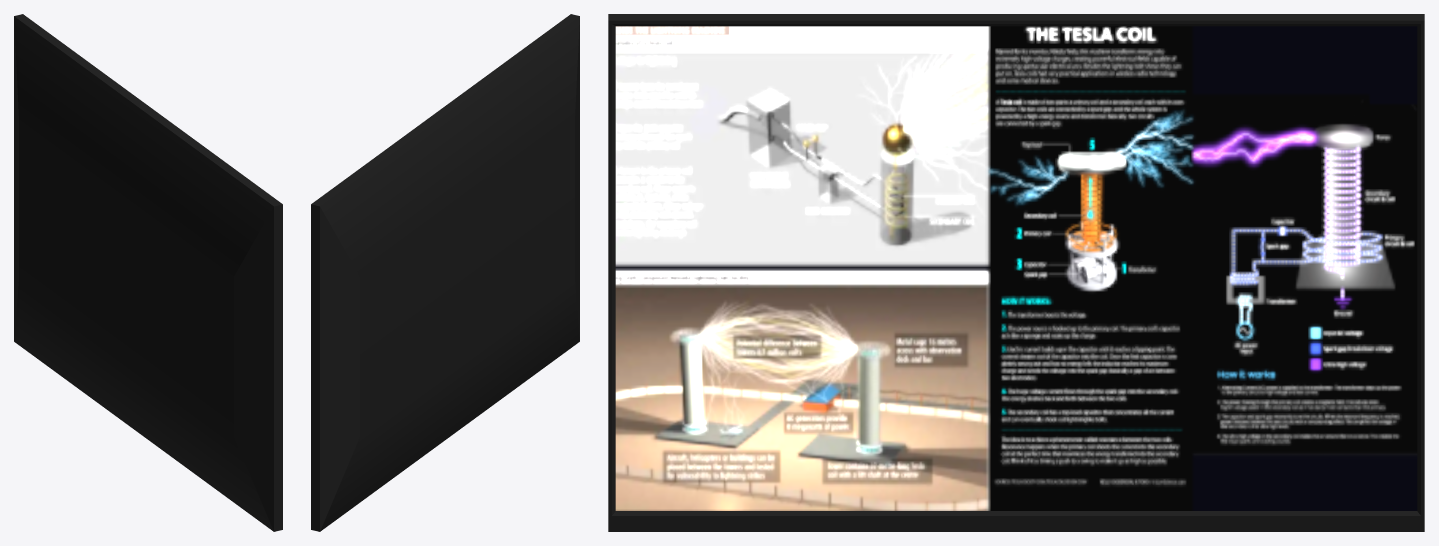
Rendered from DisplayScreenB1.fbx.
3 views of the same model, side by side, from view 1: azimuth 30°, elevation 25°; view 2: azimuth 150°, elevation 25°; view 3: azimuth 270°, elevation 25° (orthographic). The views are drawn at different scales.
Visible parts, largest first — view 1: DisplayScreenB1; view 2: DisplayScreenB1; view 3: DisplayScreenB1.
Part boxes in pixels (x1,y1,x2,y2): DisplayScreenB1: (14,14,282,531); DisplayScreenB1: (311,14,579,531); DisplayScreenB1: (608,14,1424,531).
Bounding box in the file's own units: 15.9 × 187 × 270.
